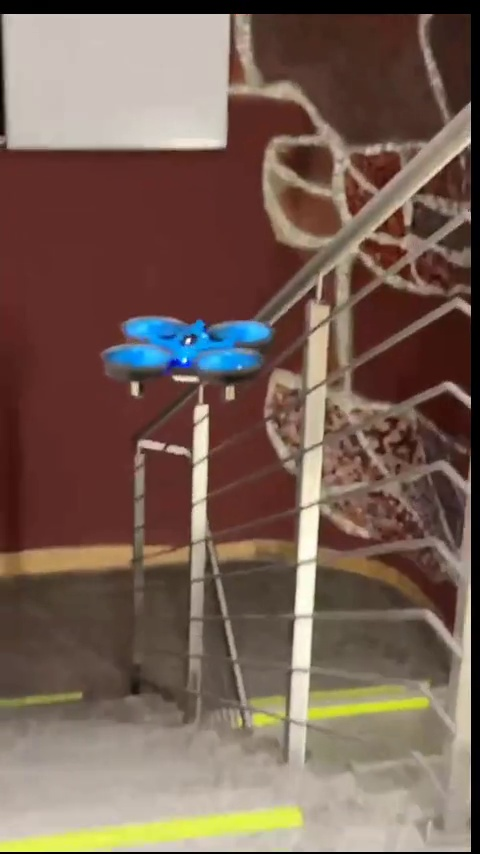drone: (99, 313, 277, 406)
